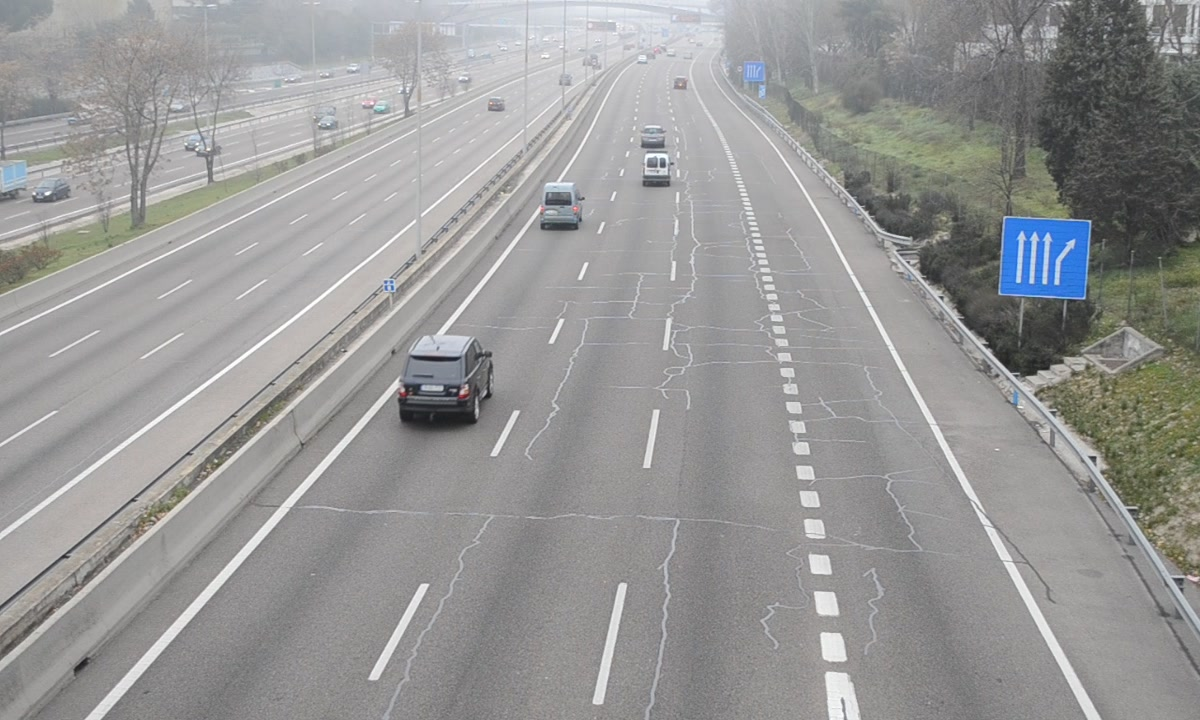car: (400, 335, 495, 418)
van: (541, 181, 579, 226), (643, 150, 672, 187)
